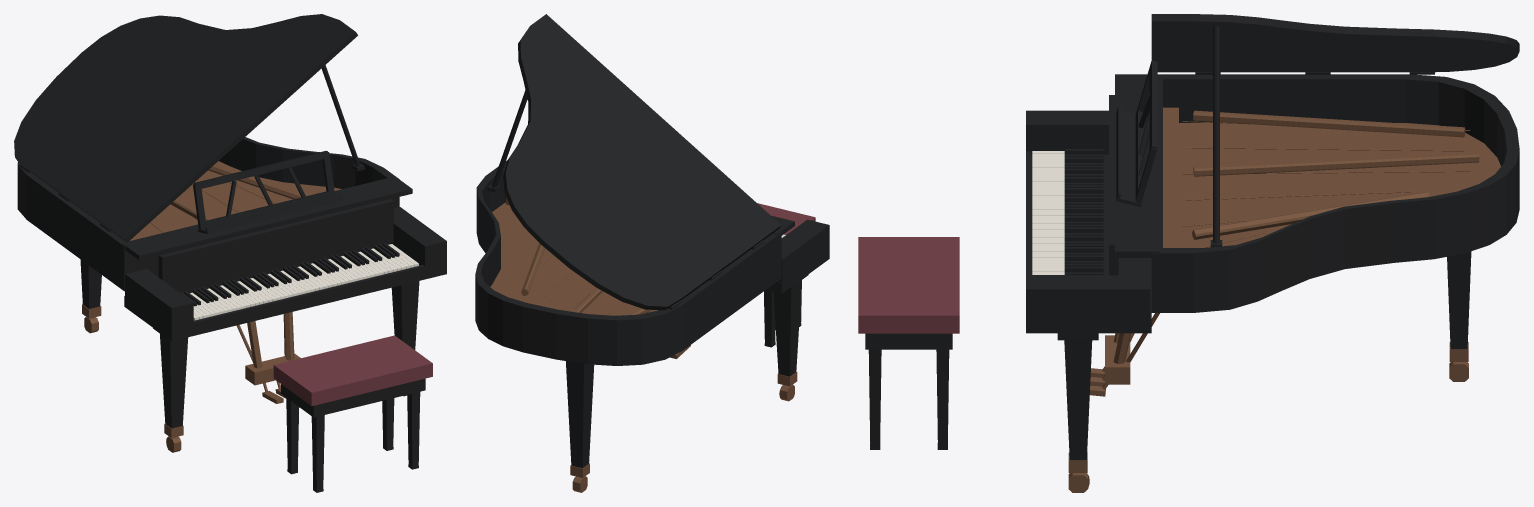
The model's file is s15-grand-piano-balanced.glb.
3 views of the same model, side by side, from view 1: azimuth 30°, elevation 25°; view 2: azimuth 150°, elevation 25°; view 3: azimuth 270°, elevation 25° (orthographic). The views are drawn at different scales.
Parts seen in each view (by area): view 1: Case and action, Raised lid, Bench, Keyboard and music rest; view 2: Raised lid, Case and action, Bench; view 3: Case and action, Raised lid, Bench, Keyboard and music rest.
Boxes of the visible parts, box(x1,y1,x2,y2) form: Case and action: box(17, 137, 446, 452); Raised lid: box(14, 14, 364, 242); Bench: box(273, 335, 432, 492); Keyboard and music rest: box(180, 151, 418, 320); Raised lid: box(487, 14, 781, 310); Case and action: box(475, 160, 829, 492); Bench: box(757, 203, 815, 347); Case and action: box(1026, 74, 1519, 492); Raised lid: box(1151, 14, 1519, 247); Bench: box(858, 237, 959, 449); Keyboard and music rest: box(1032, 60, 1157, 274).
Size of the model in its own units: 1.76 by 2.13 by 2.75.
Materials: 1 (1 with a texture image).
